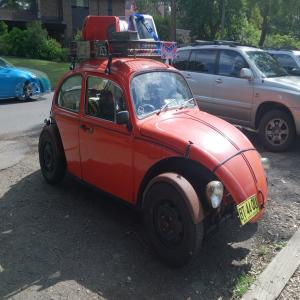Vehicle-registration-plate: (238, 196, 262, 227)
